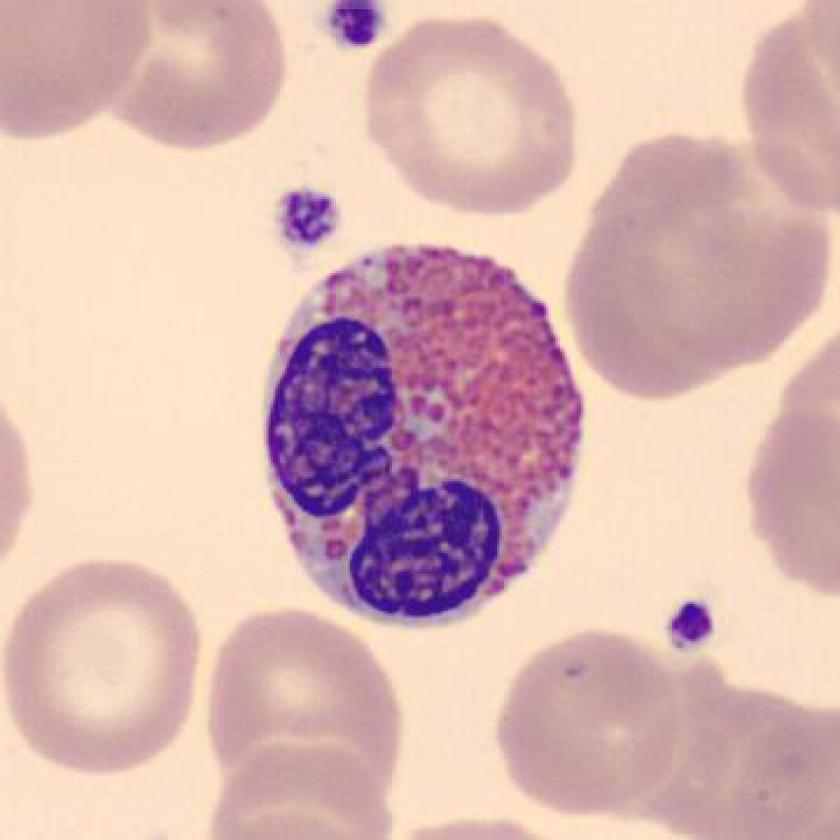eosinophil: (255, 237, 596, 640)
